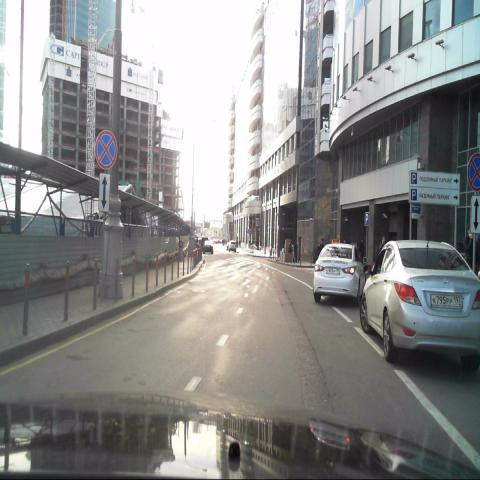8_2_4: (468, 194, 480, 238), (99, 171, 111, 214)
